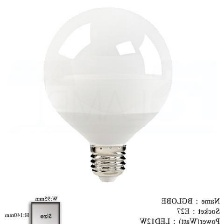light_bulb: (41, 3, 175, 184)
